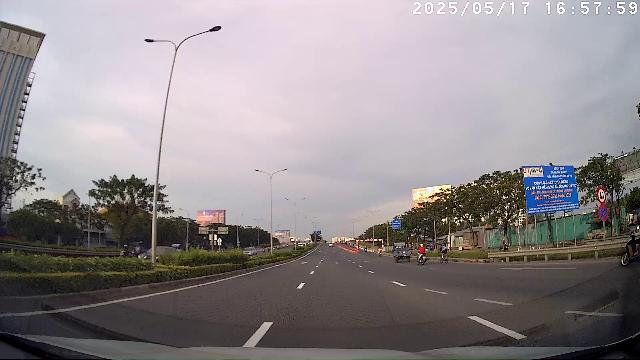127-toc-do-toi-da-60: (597, 187, 607, 204)
130-cam-dung-va-do-xe: (598, 205, 608, 221)
